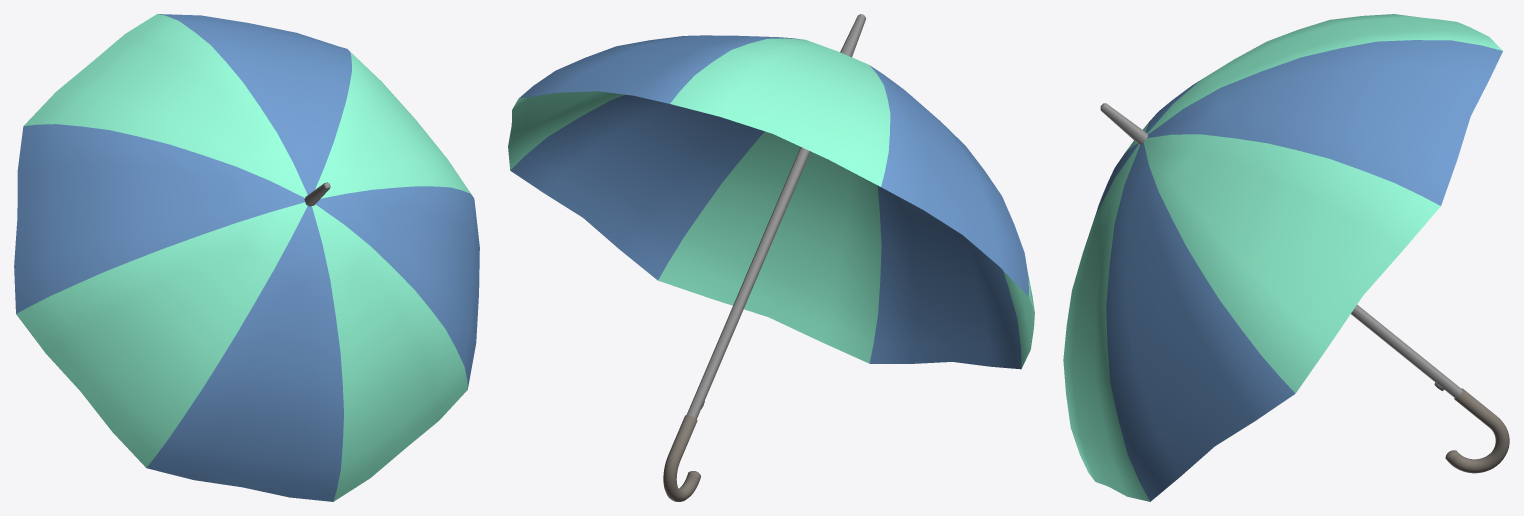
Rendered from umbrella.gltf.
3 renders of one model, left to right at view 1: azimuth 30°, elevation 25°; view 2: azimuth 150°, elevation 25°; view 3: azimuth 270°, elevation 25°, orthographic. The views are drawn at different scales.
Parts seen in each view (by area): view 1: body2, body1; view 2: body2, body1, skeleton, handle; view 3: body2, body1, skeleton, handle.
Boxes of the visible parts, box(x1,y1,x2,y2) form: body2: box(14, 14, 479, 501); body1: box(16, 14, 472, 501); body2: box(510, 35, 1029, 369); body1: box(508, 38, 1034, 368); skeleton: box(686, 14, 865, 419); handle: box(663, 415, 700, 501); body2: box(1089, 40, 1502, 501); body1: box(1063, 14, 1502, 501); skeleton: box(1100, 103, 1462, 398); handle: box(1445, 388, 1509, 473).
Bounding box in the file's own units: 6.65 × 5.1 × 4.76.
